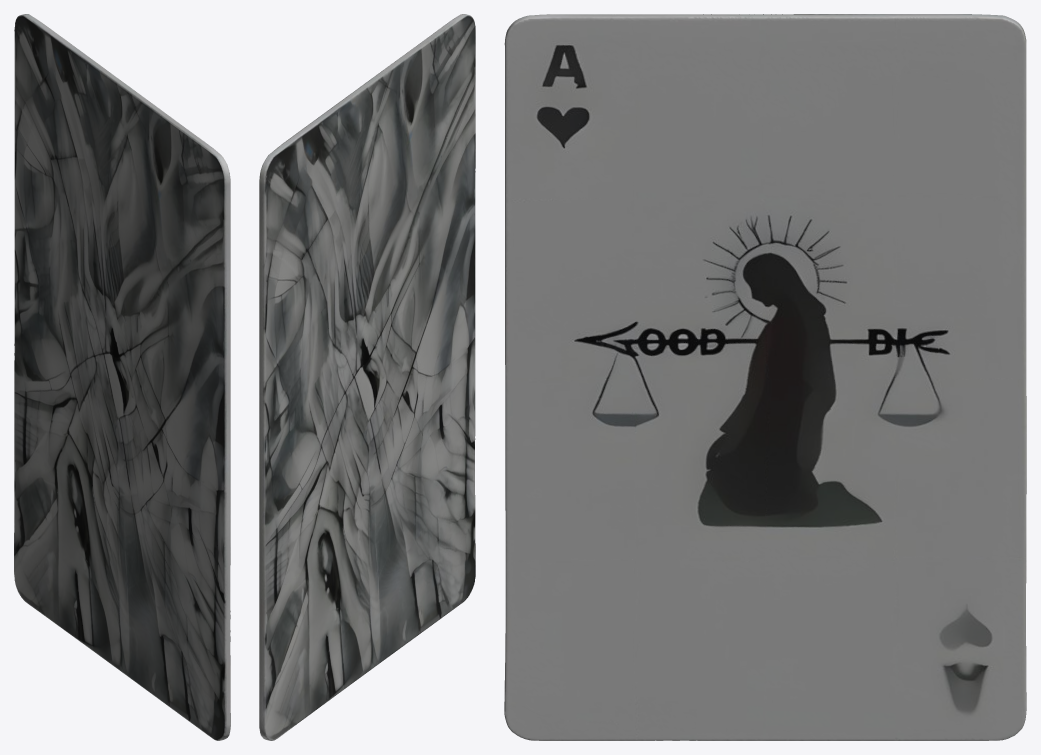
File: card 3d.opt.glb
3 renders of one model, left to right at view 1: azimuth 30°, elevation 25°; view 2: azimuth 150°, elevation 25°; view 3: azimuth 270°, elevation 25°, orthographic. The views are drawn at different scales.
Parts seen in each view (by area): view 1: tripo_node_3030a894-1fa9-464b-8255-1ad009c500b1; view 2: tripo_node_3030a894-1fa9-464b-8255-1ad009c500b1; view 3: tripo_node_3030a894-1fa9-464b-8255-1ad009c500b1.
Boxes of the visible parts, x1,y1,x2,y2 form: tripo_node_3030a894-1fa9-464b-8255-1ad009c500b1: (14, 14, 230, 740); tripo_node_3030a894-1fa9-464b-8255-1ad009c500b1: (259, 14, 475, 740); tripo_node_3030a894-1fa9-464b-8255-1ad009c500b1: (504, 14, 1026, 740).
Size of the model in its own units: 0.00174 by 0.15 by 0.098.
Materials: 1 (1 with a texture image).
